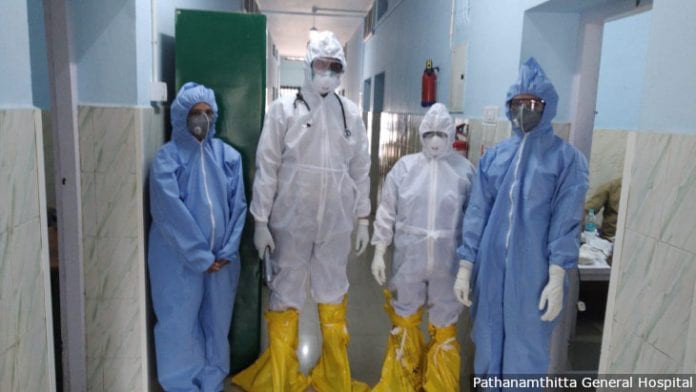Coverall: (461, 64, 581, 385), (252, 27, 371, 316), (142, 82, 245, 386), (373, 100, 475, 324)
Gloves: (537, 262, 571, 324), (254, 220, 279, 268), (452, 258, 476, 308), (370, 244, 390, 287), (352, 213, 370, 257)
with_mask: (308, 68, 346, 101), (511, 102, 543, 136), (186, 112, 218, 141), (426, 135, 449, 160)
